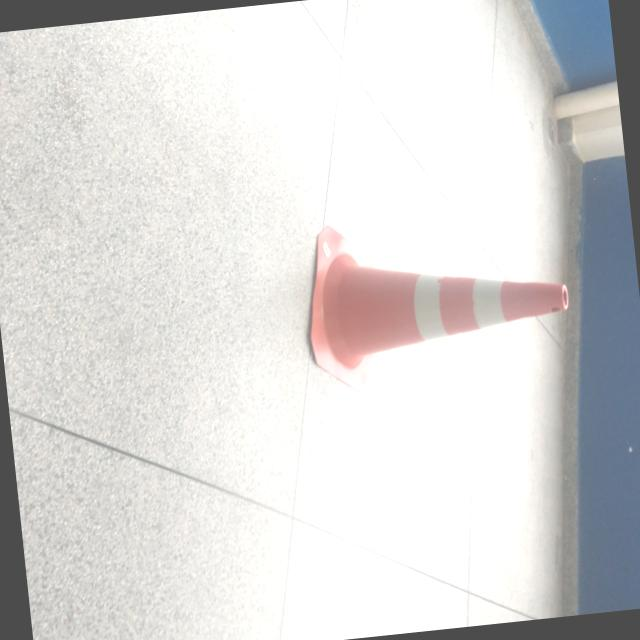cone: (284, 226, 586, 395)
